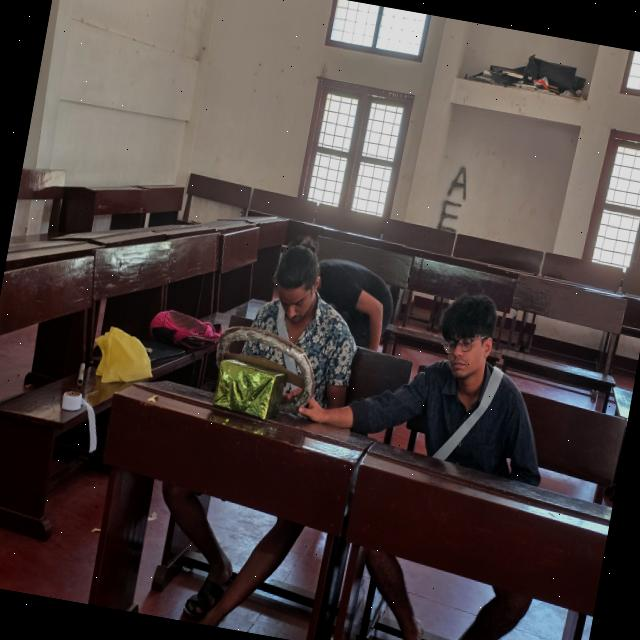seatbelt: (240, 290, 350, 430), (412, 352, 518, 481)
